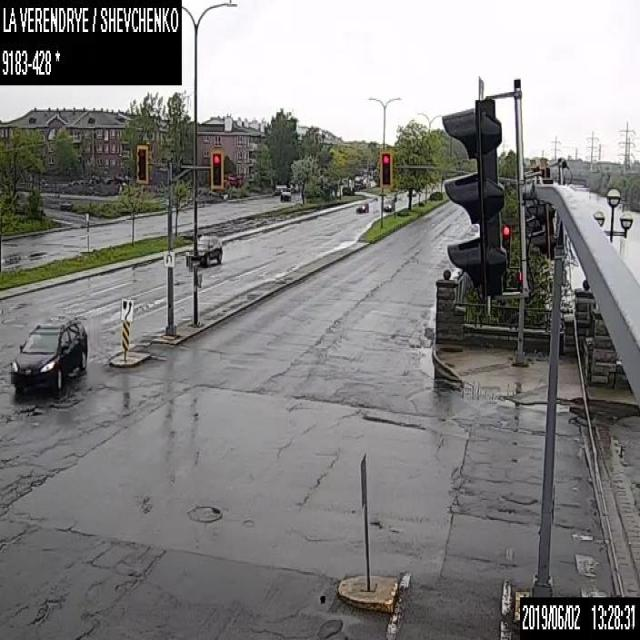vehicle: (8, 312, 87, 393), (184, 232, 222, 267), (355, 200, 368, 212), (382, 198, 392, 210), (280, 190, 290, 202)
